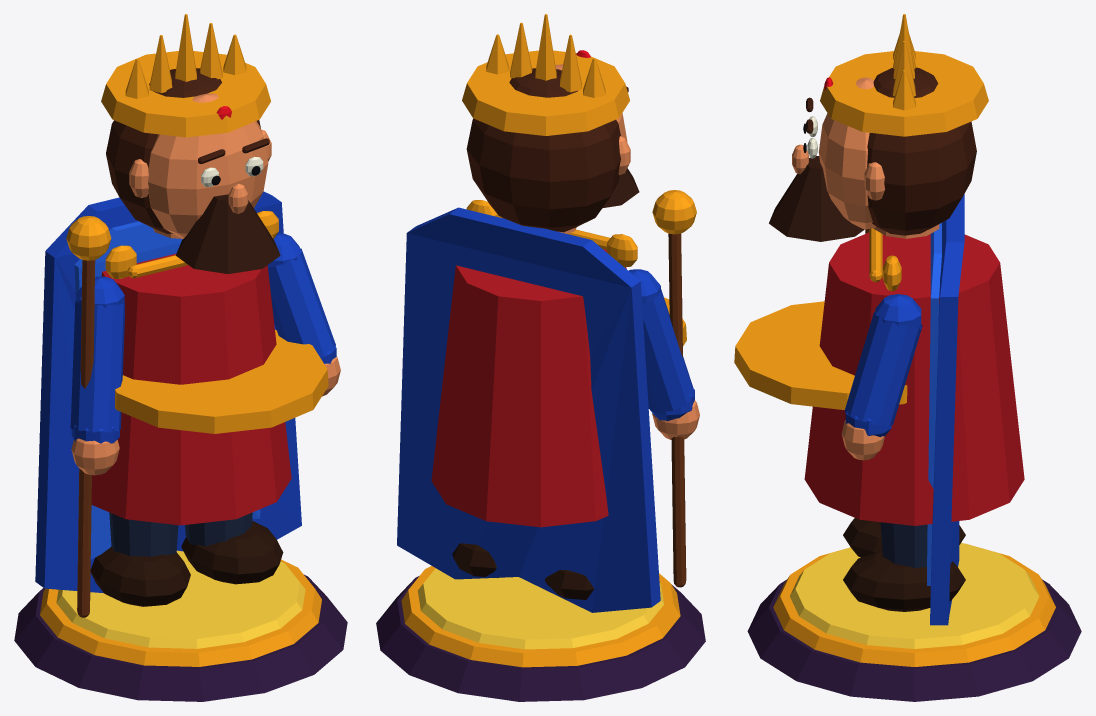
File: KingLeoLowPoly.obj
3 renders of one model, left to right at view 1: azimuth 30°, elevation 25°; view 2: azimuth 150°, elevation 25°; view 3: azimuth 270°, elevation 25°, orthographic.
Parts seen in each view (by area): view 1: KingLeoLowPoly; view 2: KingLeoLowPoly; view 3: KingLeoLowPoly.
Boxes of the visible parts, box(x1,y1,x2,y2) form: KingLeoLowPoly: box(14, 14, 347, 701); KingLeoLowPoly: box(376, 14, 705, 701); KingLeoLowPoly: box(734, 14, 1081, 701).
Size of the model in its own units: 3.28 by 6.68 by 3.41.
